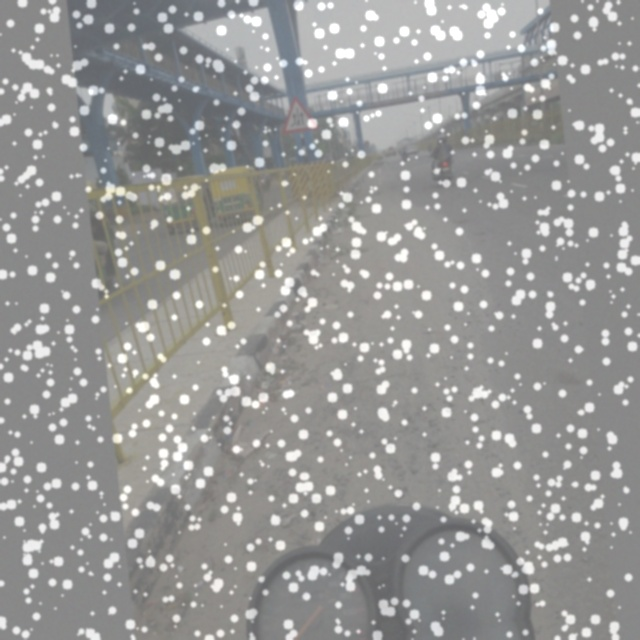Merge_Traffic_Ahead: (273, 84, 322, 138)
